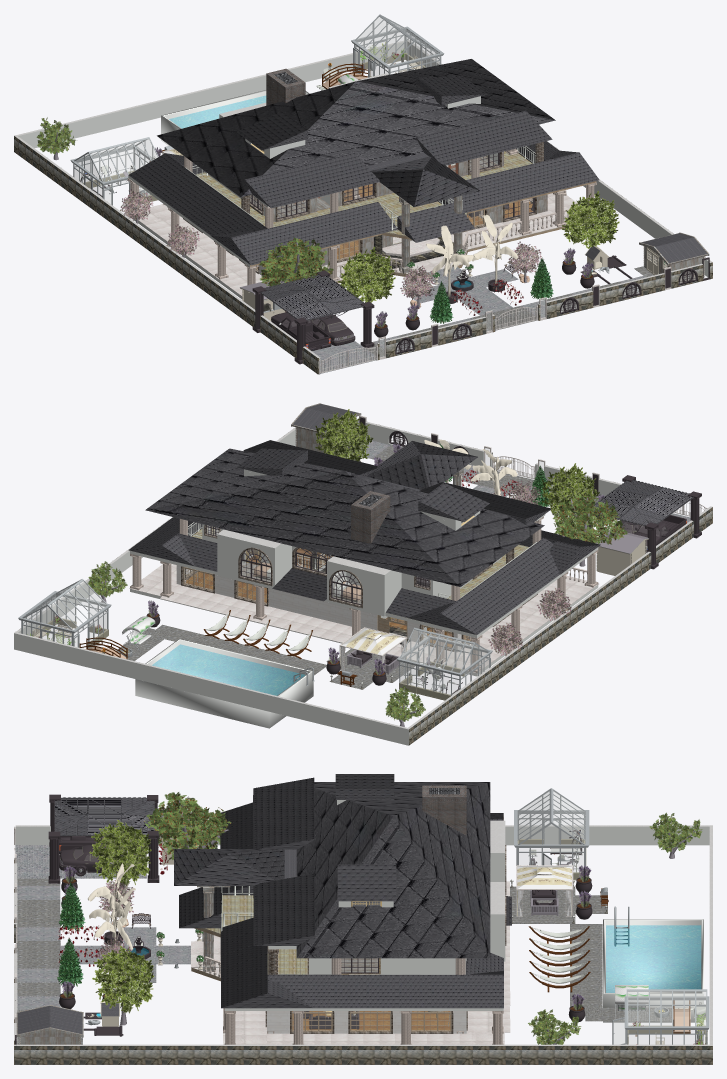
Rendered from main_updated_COMPRESSED.glb.
3 views of the same model, one above another, from view 1: azimuth 30°, elevation 25°; view 2: azimuth 150°, elevation 25°; view 3: azimuth 270°, elevation 25° (orthographic). The views are drawn at different scales.
Visible parts, largest first — view 1: Object_28, Object_48, Object_37, Object_11, Object_2, Object_66, Object_87, Object_30, Object_22, Object_86, Object_98, Object_42 (+14 smaller); view 2: Object_28, Object_37, Object_48, Object_2, Object_66, Object_11, Object_27, Object_87, Object_100, Object_42, Object_98, Object_21 (+14 smaller); view 3: Object_28, Object_37, Object_48, Object_11, Object_66, Object_27, Object_2, Object_100, Object_30, Object_87, Object_42, Object_102 (+16 smaller).
Part boxes in pixels (bbox=[...]): Object_28: bbox=[128, 59, 707, 320]; Object_48: bbox=[44, 14, 697, 364]; Object_37: bbox=[18, 41, 709, 358]; Object_11: bbox=[14, 136, 712, 374]; Object_2: bbox=[138, 148, 671, 374]; Object_66: bbox=[74, 17, 708, 357]; Object_87: bbox=[338, 191, 619, 302]; Object_30: bbox=[312, 266, 646, 373]; Object_22: bbox=[267, 151, 709, 283]; Object_86: bbox=[120, 189, 541, 299]; Object_98: bbox=[127, 148, 596, 285]; Object_42: bbox=[14, 39, 712, 357]; Object_28: bbox=[128, 404, 693, 634]; Object_37: bbox=[14, 421, 686, 745]; Object_48: bbox=[18, 417, 701, 726]; Object_2: bbox=[129, 415, 707, 673]; Object_66: bbox=[23, 435, 665, 694]; Object_11: bbox=[409, 452, 712, 745]; Object_27: bbox=[116, 440, 598, 689]; Object_87: bbox=[315, 409, 599, 519]; Object_100: bbox=[152, 644, 304, 695]; Object_42: bbox=[14, 420, 712, 729]; Object_98: bbox=[130, 516, 598, 673]; Object_21: bbox=[176, 565, 461, 652]; Object_28: bbox=[17, 774, 511, 1034]; Object_37: bbox=[15, 800, 709, 1044]; Object_48: bbox=[15, 788, 709, 1044]; Object_11: bbox=[14, 858, 712, 1064]; Object_66: bbox=[292, 791, 705, 1044]; Object_27: bbox=[16, 878, 671, 1044]; Object_2: bbox=[14, 826, 573, 1044]; Object_100: bbox=[96, 925, 700, 1017]; Object_30: bbox=[15, 845, 190, 1037]; Object_87: bbox=[89, 819, 154, 1013]; Object_42: bbox=[14, 820, 712, 1045]; Object_102: bbox=[144, 792, 231, 860].
Size of the model in its own units: 32.37 by 11.11 by 42.69.
Materials: 68 (68 with a texture image).
